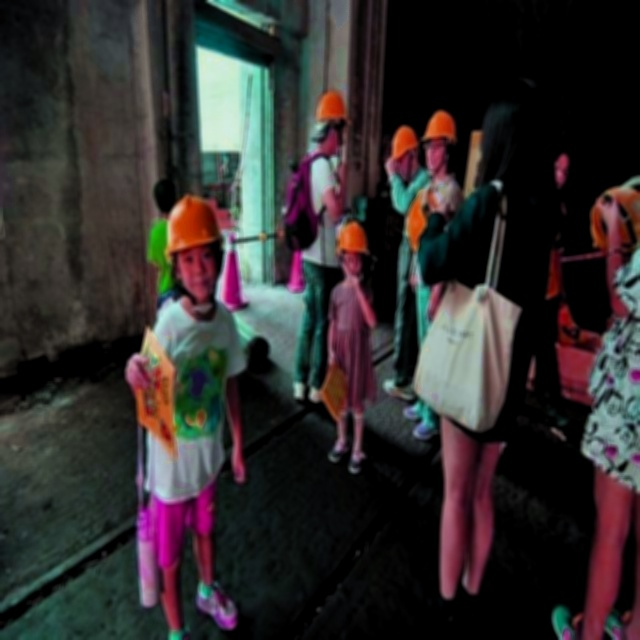Con_Casco: (171, 196, 227, 298)
